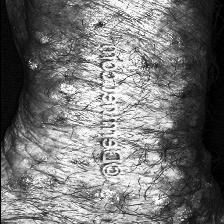Non-Cancerous Skin Condition: (132, 112, 206, 216), (124, 0, 202, 98), (3, 131, 81, 224), (25, 19, 95, 108)
